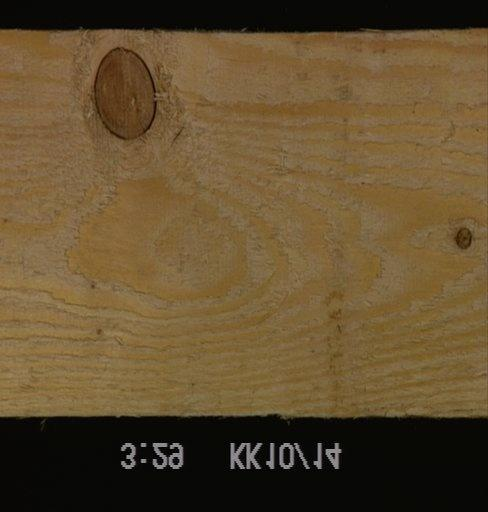dry_knot: (90, 44, 158, 143), (451, 224, 473, 252)
